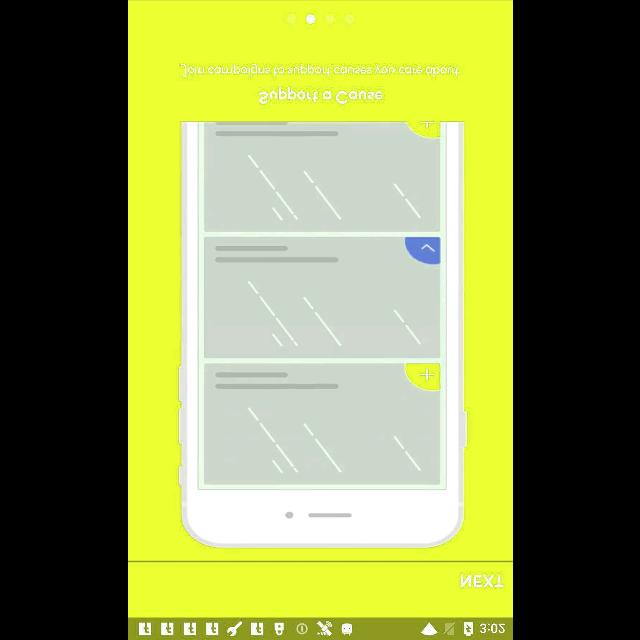image: (178, 122, 466, 548)
pageindicator: (285, 13, 353, 24)
text: (180, 63, 458, 77), (258, 88, 382, 104), (460, 574, 502, 588)
uppertaskbar: (128, 617, 512, 639)
